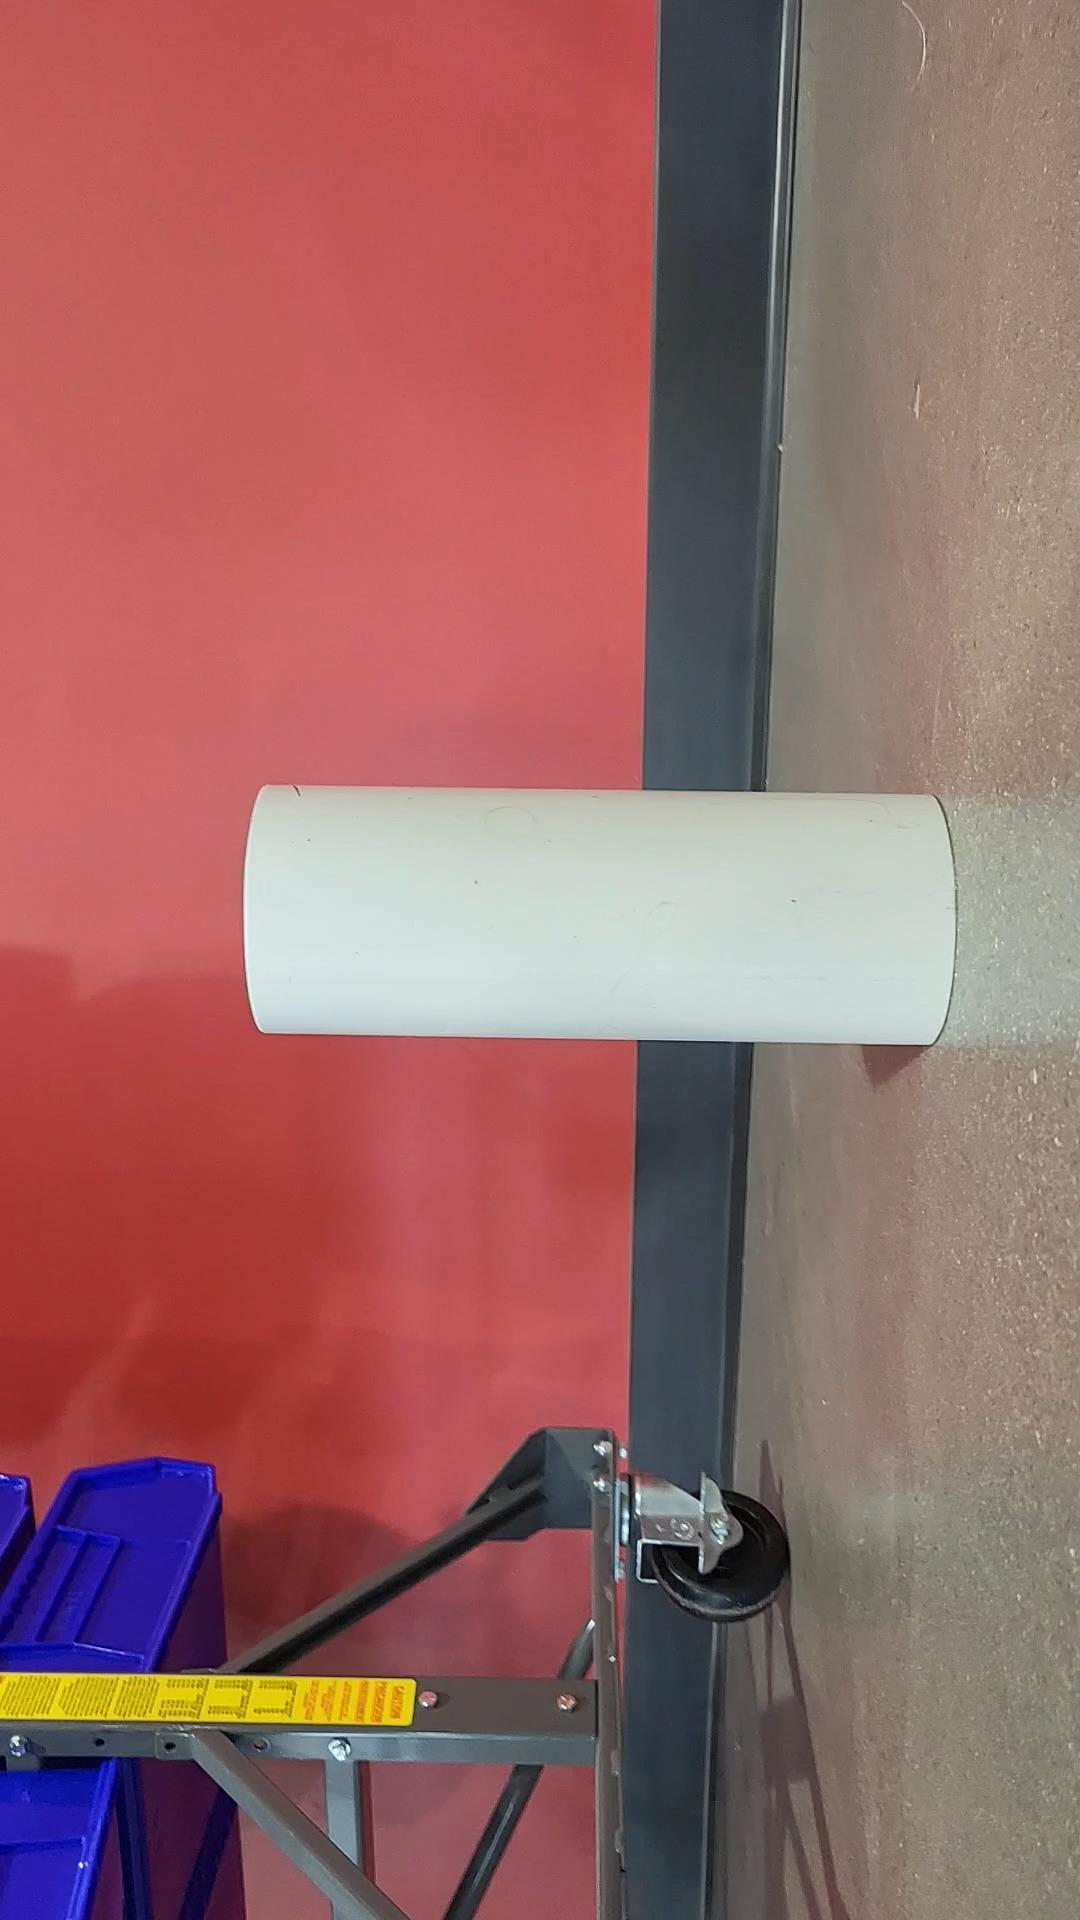coral: (236, 785, 956, 1047)
